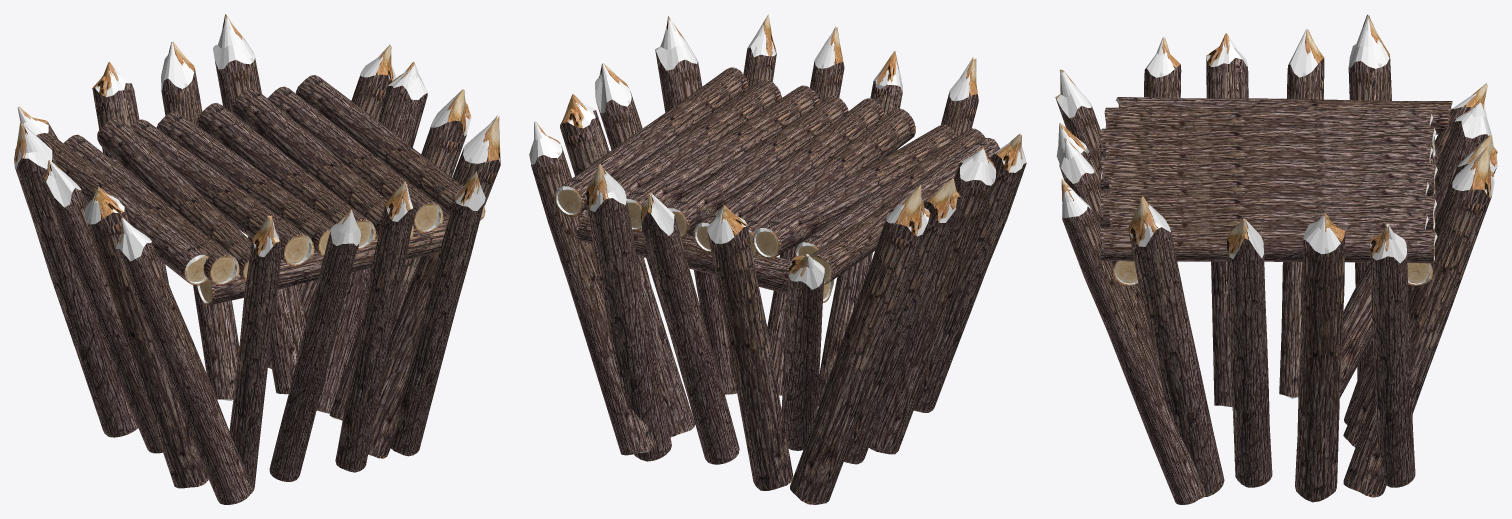
Rendered from turret.FBX.
3 renders of one model, left to right at view 1: azimuth 30°, elevation 25°; view 2: azimuth 150°, elevation 25°; view 3: azimuth 270°, elevation 25°, orthographic. The views are drawn at different scales.
Parts seen in each view (by area): view 1: Cylinder100, Cylinder010, Cylinder094, Cylinder099, Cylinder004, Cylinder025, Cylinder024, Cylinder097, Cylinder068, Cylinder110, Cylinder106, Cylinder054 (+13 smaller); view 2: Cylinder094, Cylinder047, Cylinder042, Cylinder045, Cylinder074, Cylinder099, Cylinder097, Cylinder048, Cylinder100, Cylinder110, Cylinder054, Cylinder106 (+14 smaller); view 3: Cylinder073, Cylinder068, Cylinder042, Cylinder004, Cylinder071, Cylinder074, Cylinder054, Cylinder108, Cylinder109, Cylinder106, Cylinder107, Cylinder110 (+15 smaller).
Boxes of the visible parts, x1,y1,x2,y2 form: Cylinder100: (115, 217, 253, 504); Cylinder010: (335, 181, 414, 472); Cylinder094: (14, 122, 137, 437); Cylinder099: (84, 186, 208, 488); Cylinder004: (391, 171, 485, 456); Cylinder025: (269, 210, 360, 481); Cylinder024: (229, 215, 282, 493); Cylinder097: (41, 160, 162, 453); Cylinder068: (368, 115, 500, 458); Cylinder110: (97, 118, 251, 281); Cylinder106: (232, 88, 413, 239); Cylinder054: (295, 75, 485, 220); Cylinder094: (790, 184, 930, 504); Cylinder047: (707, 205, 793, 490); Cylinder042: (585, 164, 671, 461); Cylinder045: (641, 192, 739, 464); Cylinder074: (529, 121, 654, 455); Cylinder099: (869, 147, 995, 454); Cylinder097: (844, 178, 960, 464); Cylinder048: (781, 254, 824, 450); Cylinder100: (913, 133, 1026, 412); Cylinder110: (752, 124, 956, 259); Cylinder054: (554, 67, 748, 217); Cylinder106: (626, 85, 820, 231); Cylinder073: (1295, 213, 1345, 502); Cylinder068: (1128, 196, 1224, 496); Cylinder042: (1343, 145, 1494, 497); Cylinder004: (1061, 178, 1205, 504); Cylinder071: (1227, 218, 1272, 487); Cylinder074: (1370, 224, 1415, 487); Cylinder054: (1100, 228, 1437, 263); Cylinder108: (1100, 157, 1437, 196); Cylinder109: (1104, 107, 1432, 128); Cylinder106: (1100, 192, 1436, 229); Cylinder107: (1105, 142, 1432, 162); Cylinder110: (1100, 125, 1436, 160).
Size of the model in its own units: 13.01 by 12.45 by 10.73.
